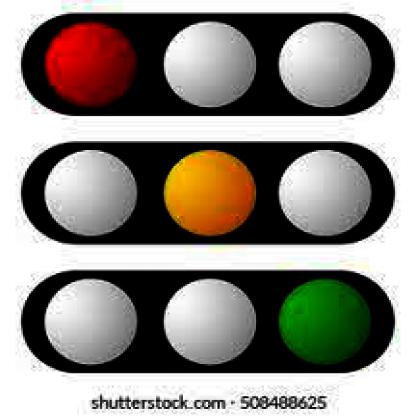traffic-light: (31, 14, 381, 120), (35, 143, 368, 243), (44, 275, 378, 370)
